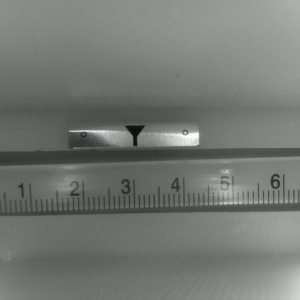1: (17, 184, 24, 198)
2: (68, 181, 79, 196)
3: (120, 178, 130, 194)
4: (169, 177, 180, 192)
5: (219, 174, 229, 190)
6: (270, 173, 280, 189)
finger: (123, 126, 145, 147)
